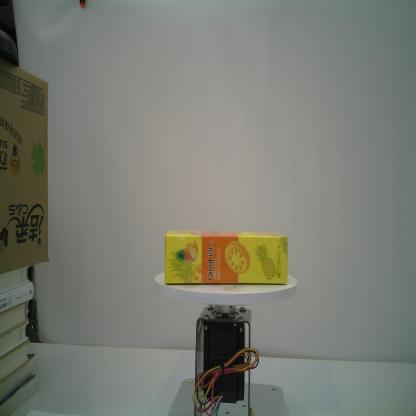Dessert: (164, 230, 287, 285)
